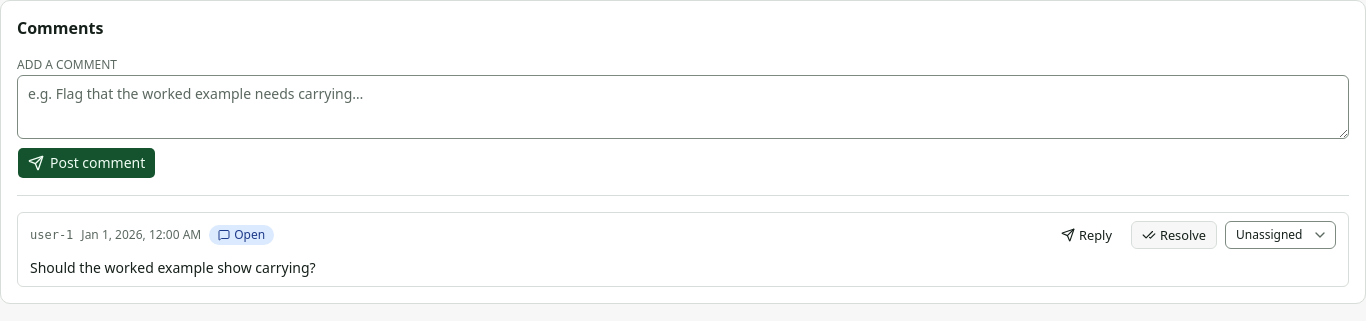
it: CommentThread › lists comments and resolves with comment.coordinate
Check: the text "Should the worked example show carrying?" is shown, box left=30, top=258, right=316, bottom=277
Click the button "Resolve" at coordinates (1174, 235), box left=1131, top=221, right=1217, bottom=249
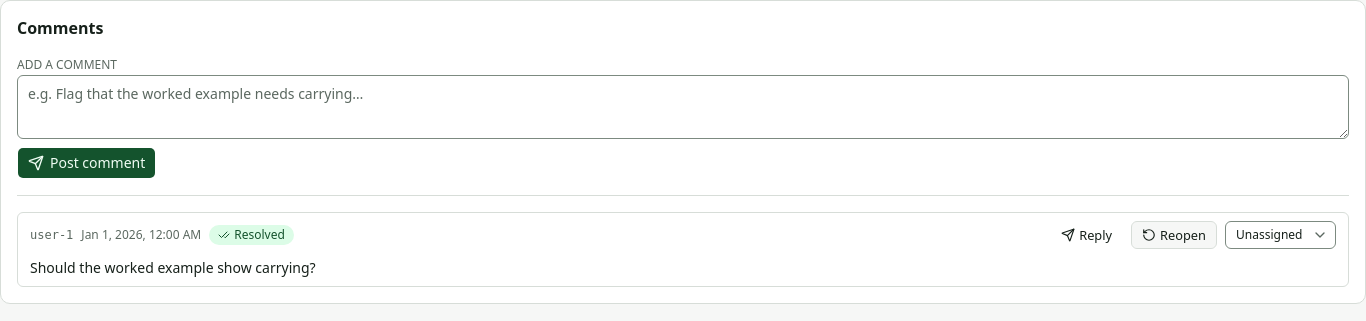
Check: the text "Resolved" is shown, box left=209, top=225, right=294, bottom=245
